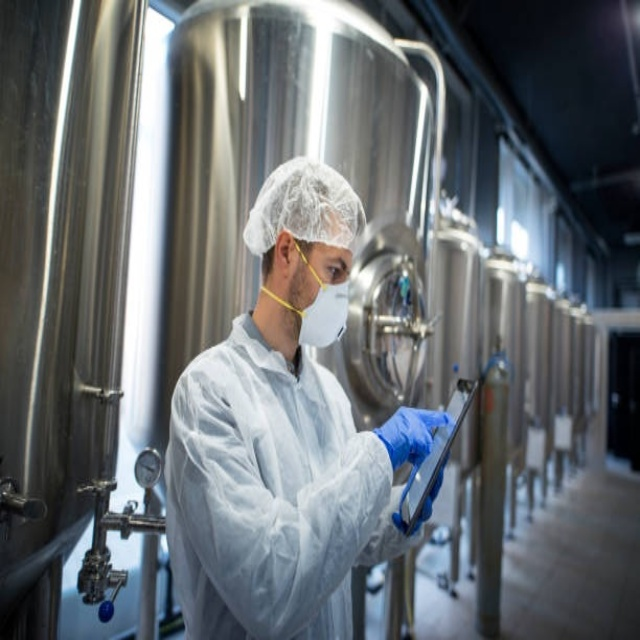Guantes: (374, 406, 454, 479)
Mascara: (284, 276, 352, 351)
Sin_gafas: (305, 251, 357, 281)
